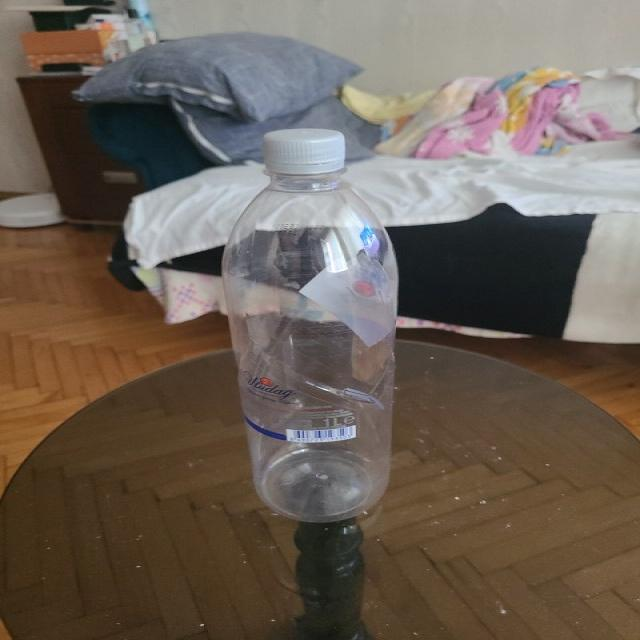bottle: (223, 128, 400, 522)
